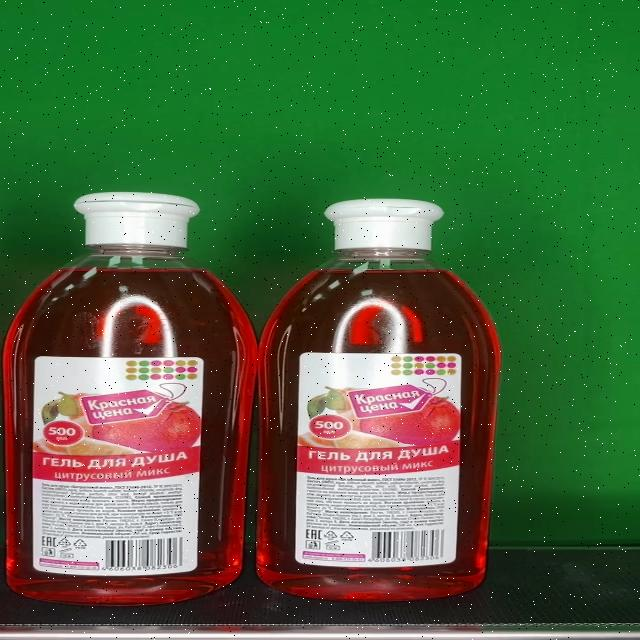Bottle: (7, 190, 259, 604), (259, 198, 501, 602)
Cap: (74, 190, 198, 247), (321, 198, 443, 251)
